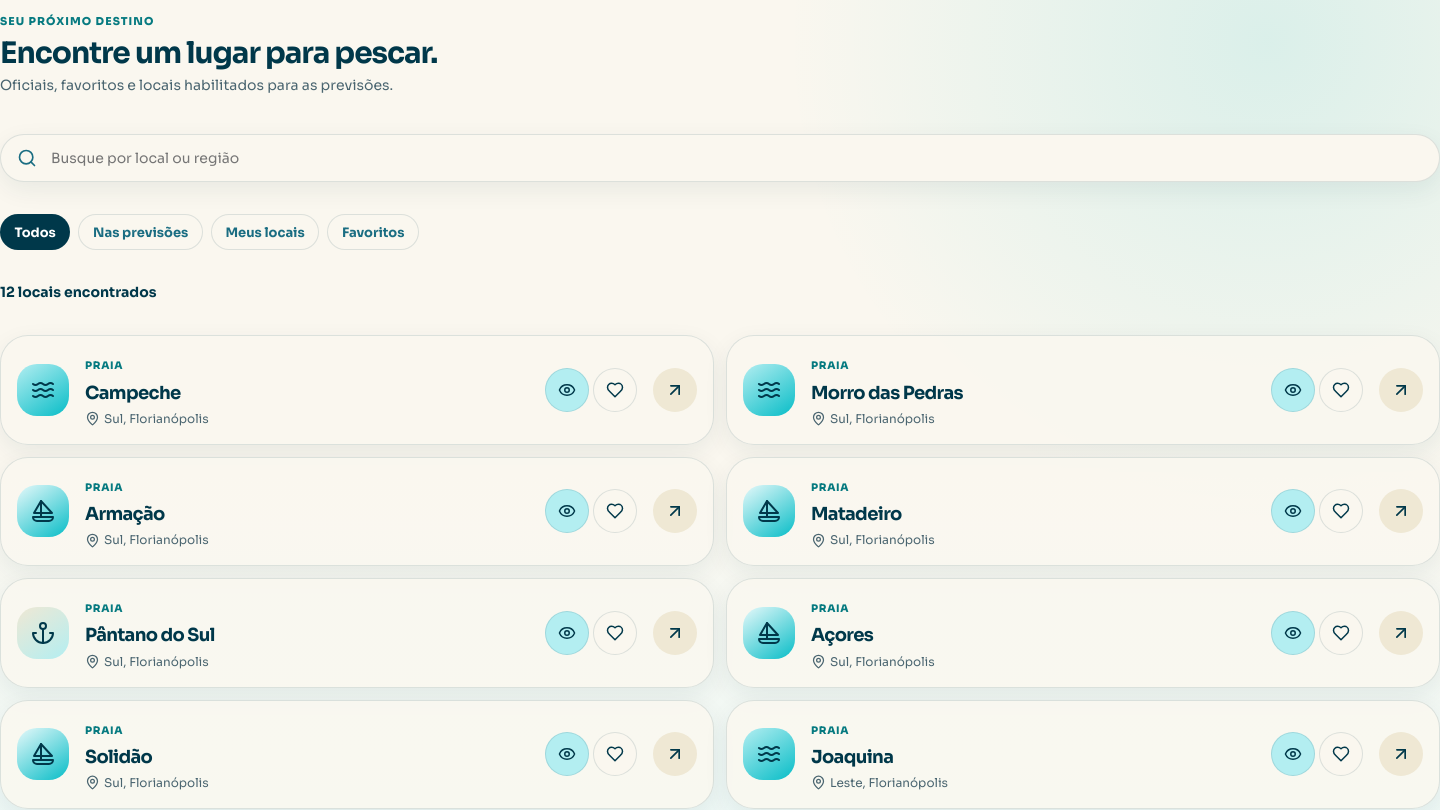
Scenario: LocationsPage › mostra novo local só dentro de meus locais
The width and height of the screenshot is (1440, 810).
Expected: the heading "Campeche" is shown, [85,382,181,404]
Expected: the button "Novo local" is not shown
Click the button "Meus locais".
click(265, 232)  # box [211,214,319,250]
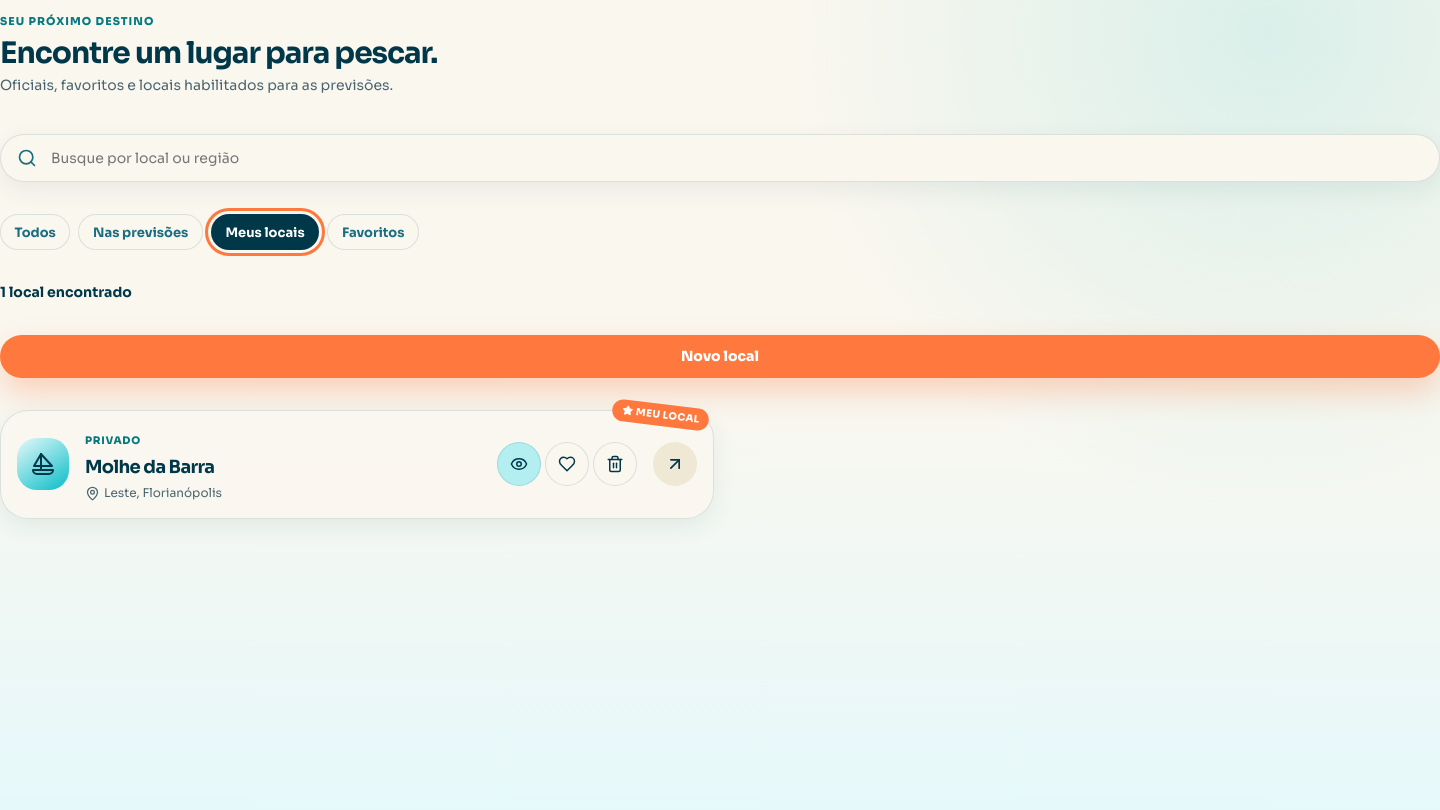
Expected: the button "Novo local" is enabled, [0,335,1439,378]
